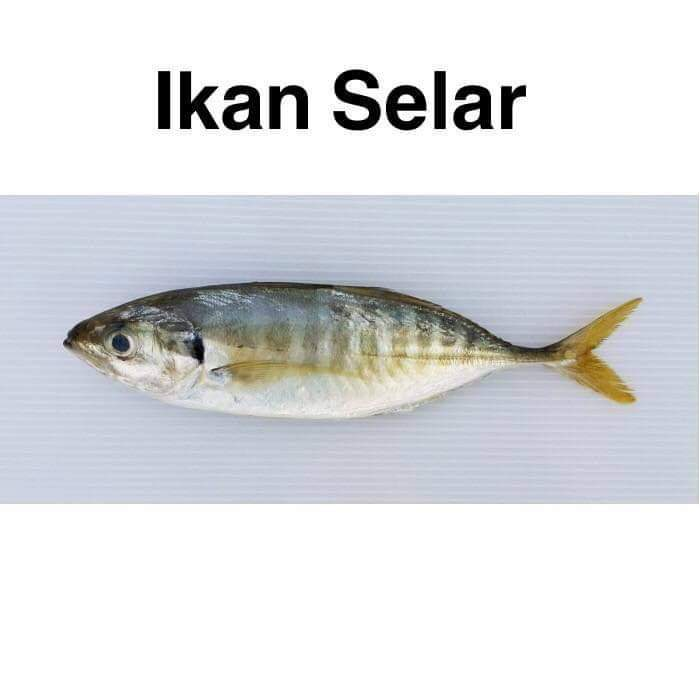Ikan Selar: (53, 269, 656, 435)
